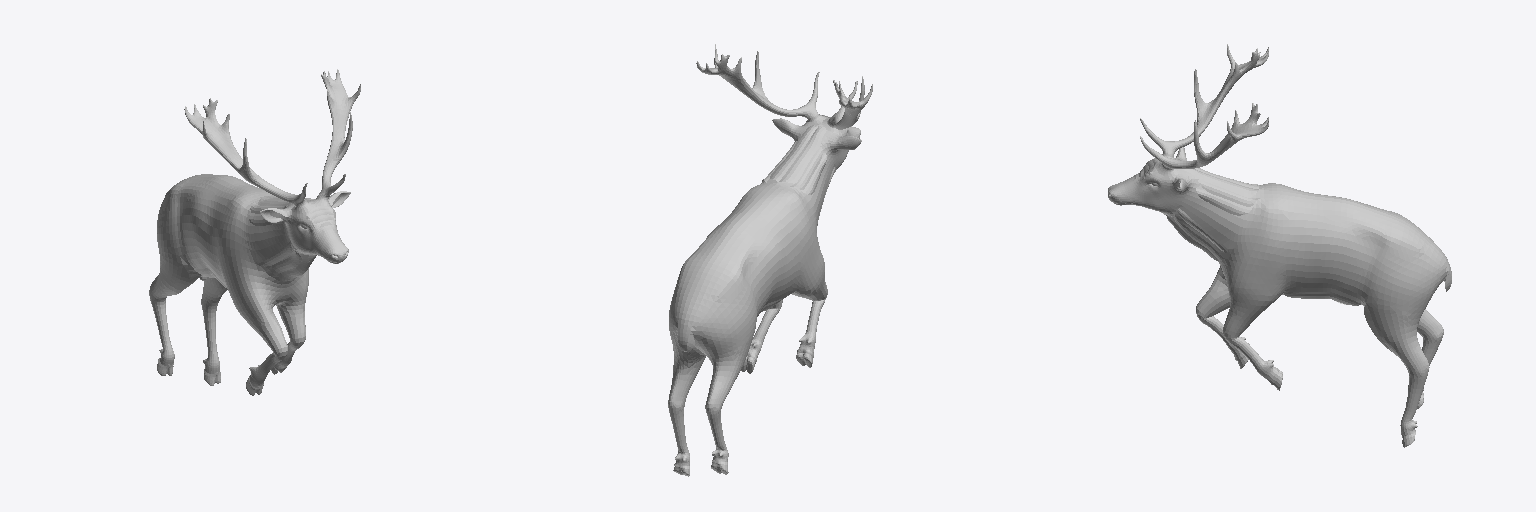
The model's file is frame_0014_uv.obj.
The picture shows the model from 3 angles: view 1: azimuth 30°, elevation 25°; view 2: azimuth 150°, elevation 25°; view 3: azimuth 270°, elevation 25°; orthographic projection.
Parts seen in each view (by area): view 1: pMesh1; view 2: pMesh1; view 3: pMesh1.
Part boxes in pixels (bbox=[...]): pMesh1: bbox=[149, 69, 360, 395]; pMesh1: bbox=[668, 44, 872, 476]; pMesh1: bbox=[1108, 44, 1451, 447].
Bounding box in the file's own units: 1.05 × 2.28 × 1.98.